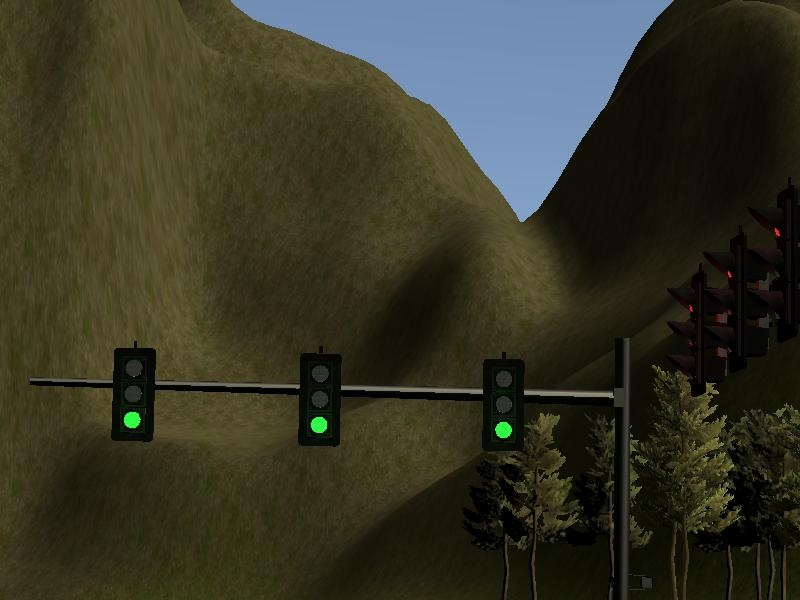green: (113, 348, 154, 443), (300, 353, 341, 448), (483, 358, 524, 453)
